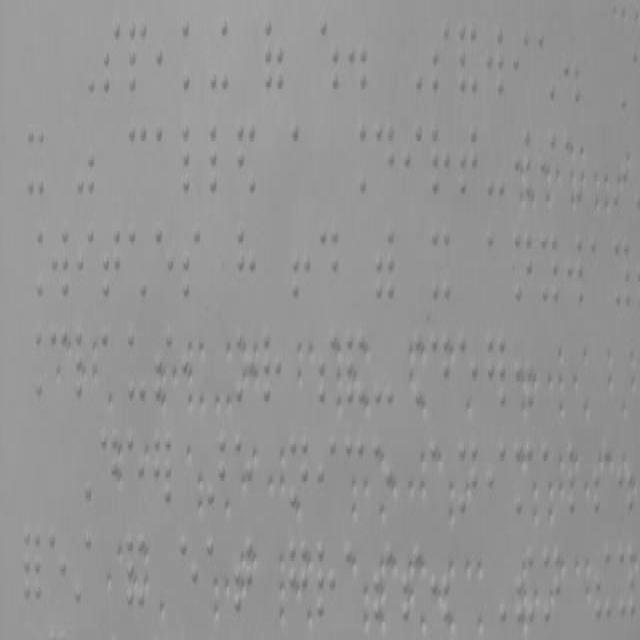braiile: (430, 228, 454, 302), (487, 439, 508, 517), (237, 226, 256, 312), (178, 536, 200, 606), (26, 122, 46, 198), (487, 226, 507, 302), (48, 528, 68, 604), (316, 542, 336, 618), (290, 121, 312, 190), (128, 18, 148, 92), (181, 18, 201, 92), (181, 121, 201, 195), (375, 123, 395, 197), (540, 234, 560, 308), (616, 543, 636, 617), (128, 124, 148, 196), (403, 124, 423, 196), (430, 124, 450, 196), (430, 20, 450, 91), (127, 331, 147, 402), (154, 228, 173, 302), (76, 223, 95, 297), (320, 223, 338, 301), (182, 223, 200, 301), (317, 436, 337, 506), (514, 232, 534, 301), (458, 332, 478, 401), (154, 124, 173, 196), (208, 124, 228, 192), (458, 126, 478, 194), (103, 21, 121, 95), (127, 432, 145, 506), (264, 330, 282, 403), (613, 238, 631, 309), (566, 236, 584, 306), (431, 334, 449, 404), (318, 334, 336, 404), (290, 438, 308, 504), (104, 226, 120, 298), (52, 226, 68, 298), (590, 238, 606, 309), (101, 432, 117, 501)
